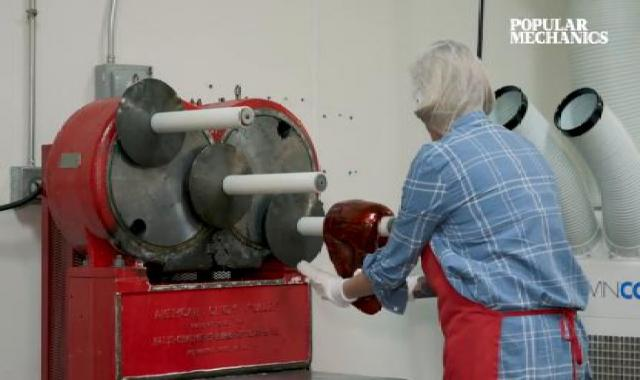hairnet: (388, 40, 502, 130)
